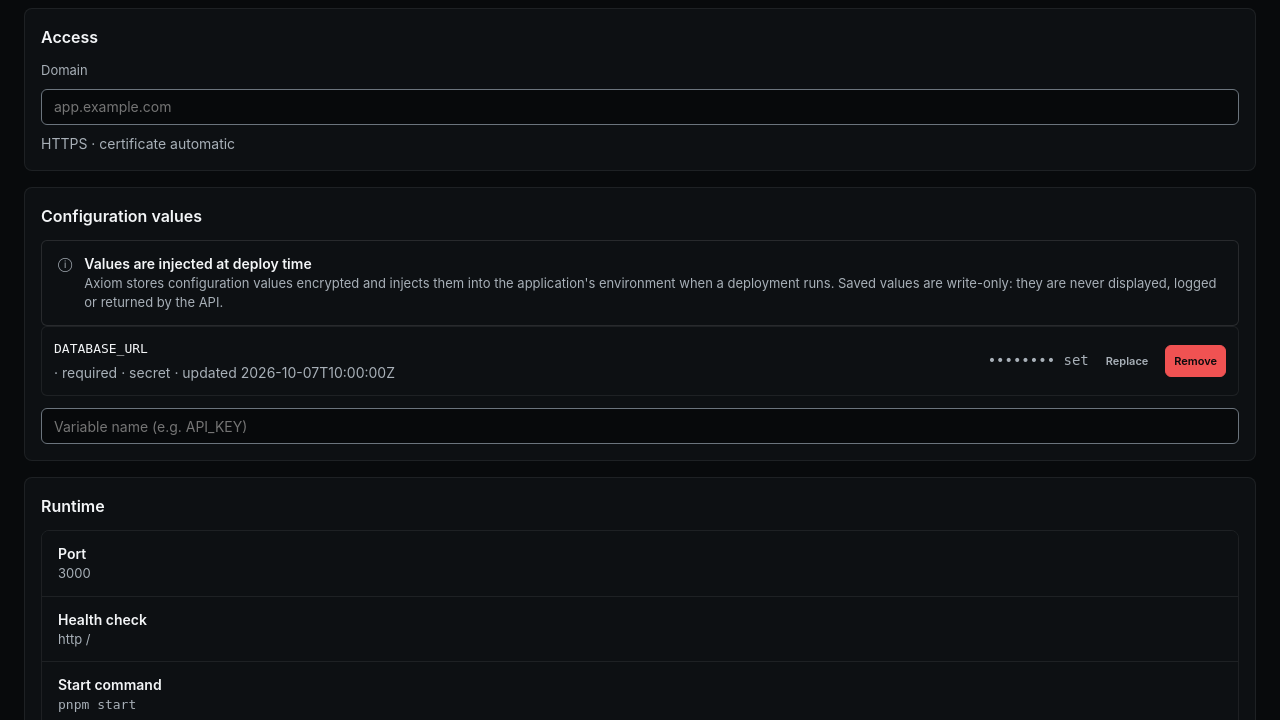
it: ConfigurePage — configuration values (#126) › saves a replaced value via PUT with the CSRF header and never echoes it
(page scrolled)
Step 1. Click the button "Replace" → click(1127, 361), box [1097, 345, 1157, 377]
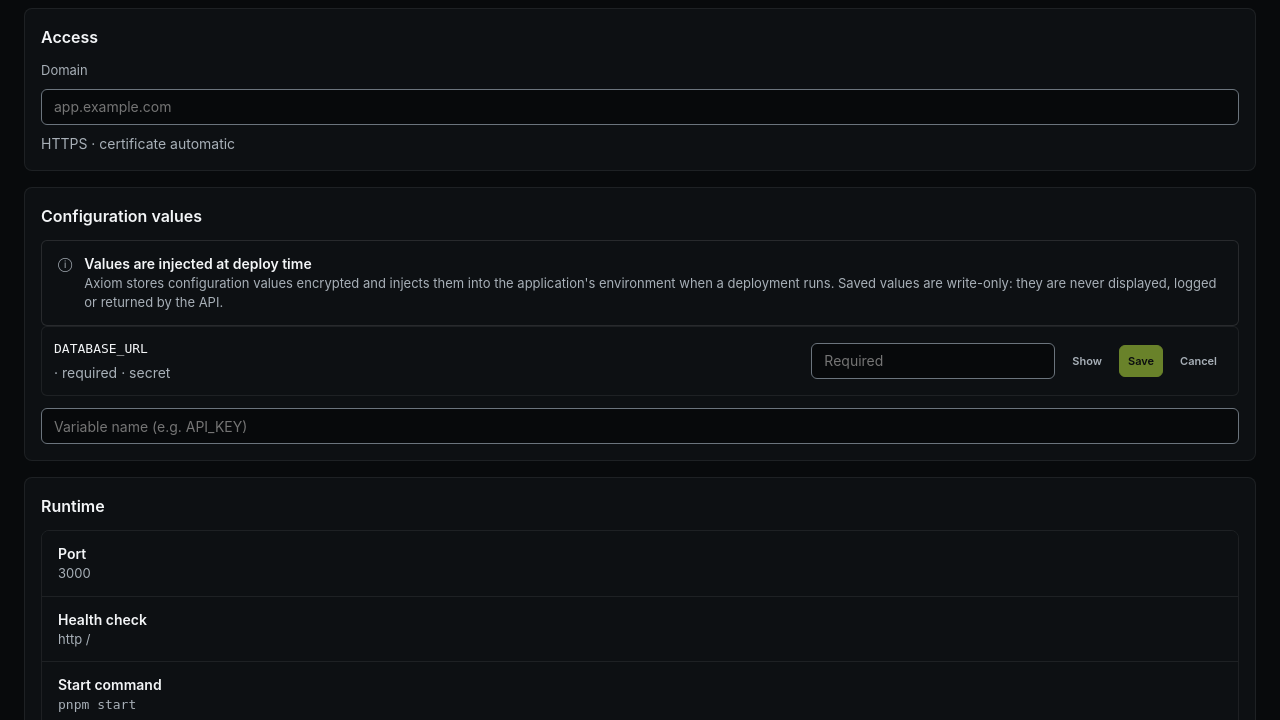
Step 2. Type "postgres://new-value" into the password field named "DATABASE_URL" → (933, 361), box [811, 343, 1055, 379]
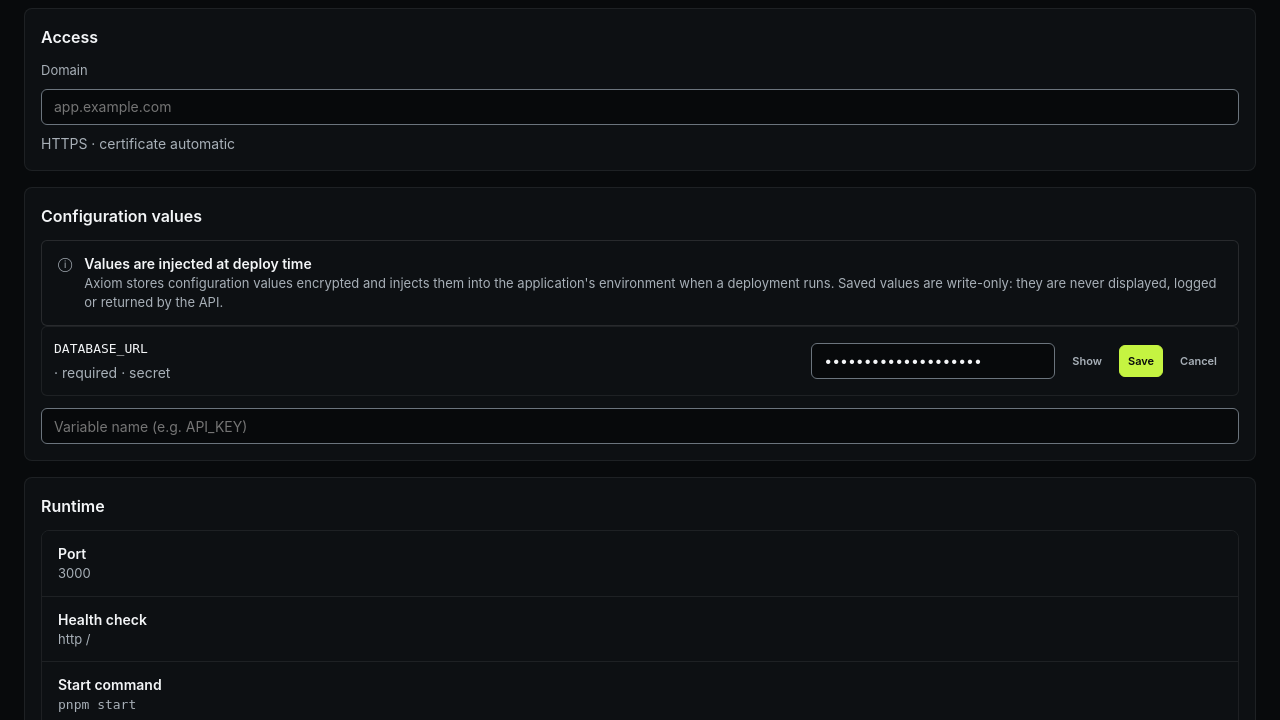
Step 3. Click the button "Save" → click(1141, 361), box [1119, 345, 1163, 377]
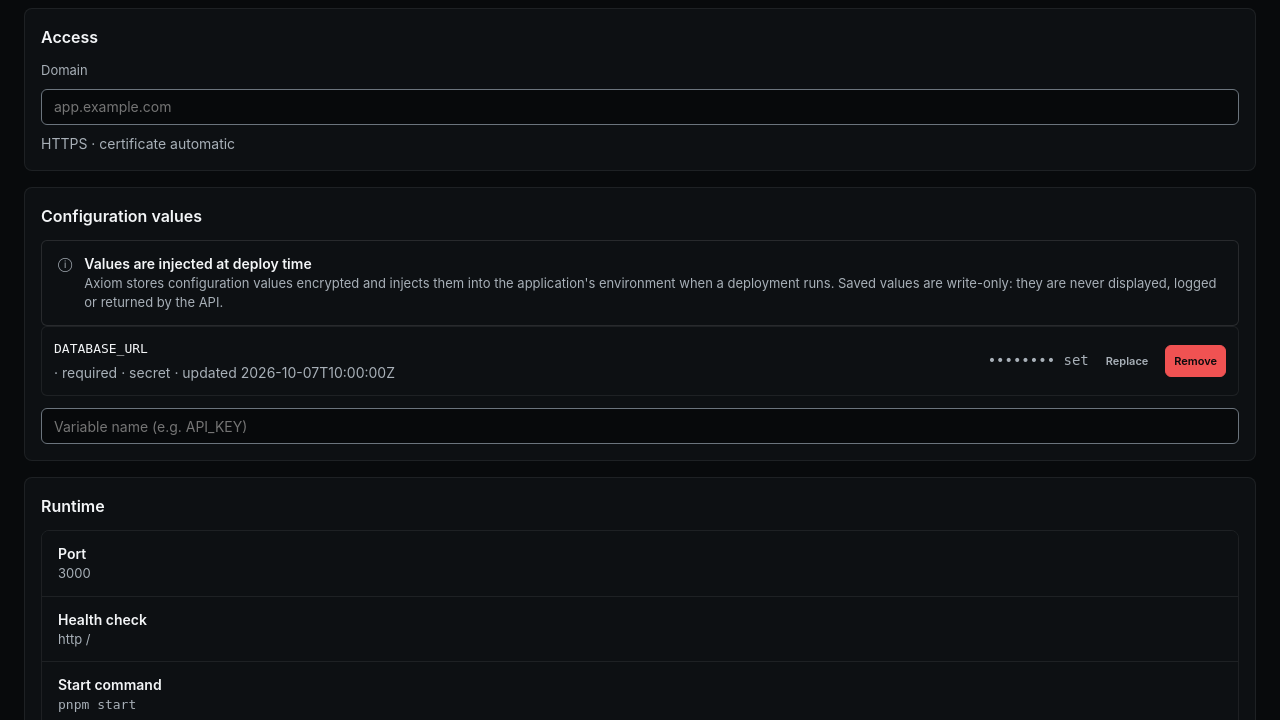
Expected: the text "•••••••• set" is shown, [988, 350, 1089, 371]
